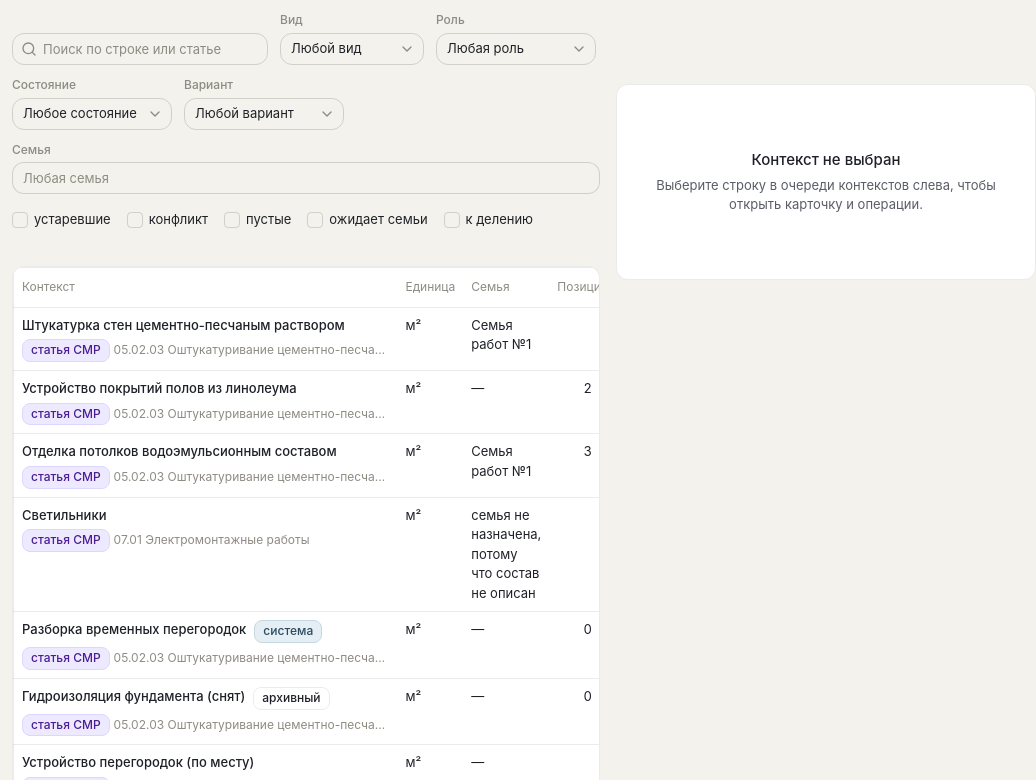
ContextsTab › пустая очередь контекстов — фильтр не находит ни одного
Expected: the text "Штукатурка стен цементно-песчаным раствором" is shown, [22, 316, 345, 335]
Type "нет-такого-текста-в-каталоге" into the field named "Поиск по написанию каталога" at (152, 49), box [37, 31, 267, 67]
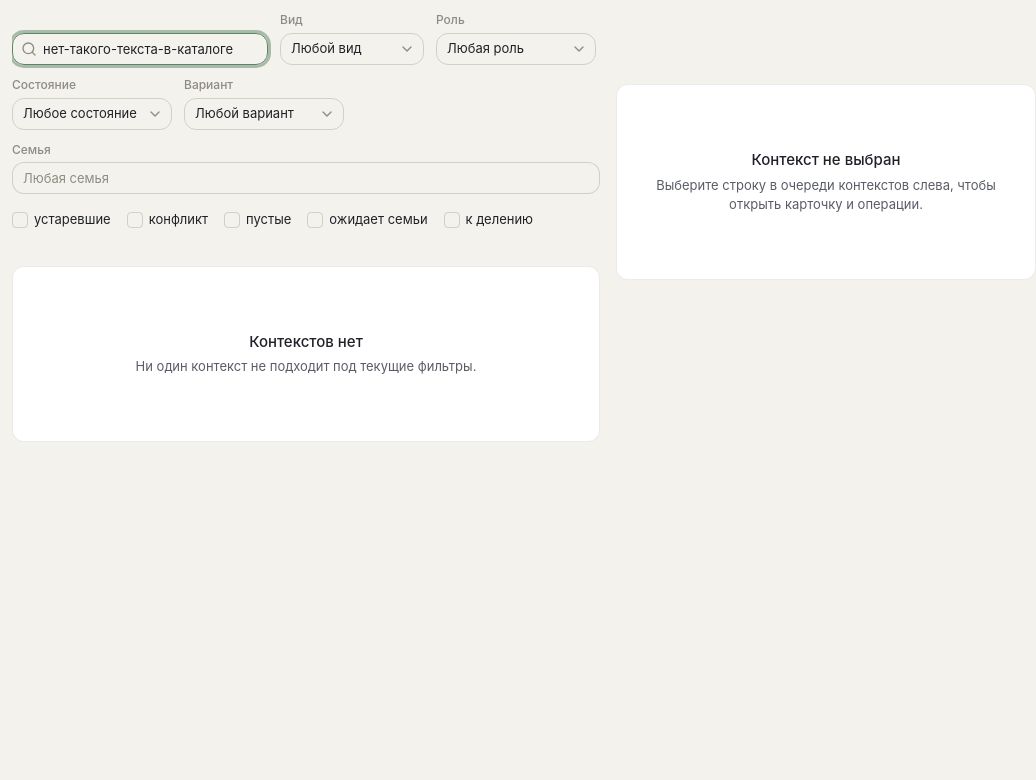
Now the heading "Контекстов нет" is shown, box [249, 331, 363, 353]
